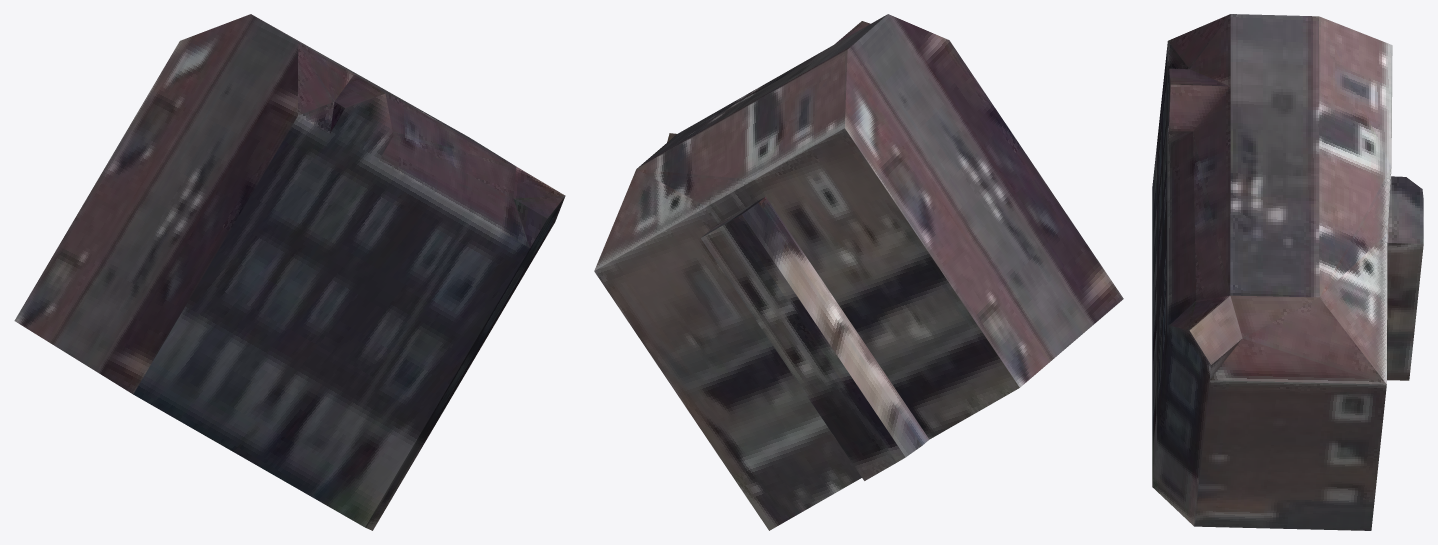
The picture shows the model from 3 angles, left to right: view 1: azimuth 30°, elevation 25°; view 2: azimuth 150°, elevation 25°; view 3: azimuth 270°, elevation 25°; orthographic projection. The views are drawn at different scales.
Visible parts, largest first — view 1: BAG_0599100000688744 (×2); view 2: BAG_0599100000688744 (×2); view 3: BAG_0599100000688744 (×2).
Boxes of the visible parts, left/top/right/bottom form: BAG_0599100000688744 (×2): left=14, top=14, right=565, bottom=530; BAG_0599100000688744 (×2): left=594, top=14, right=1123, bottom=530; BAG_0599100000688744 (×2): left=1152, top=14, right=1423, bottom=530.
Bounding box in the file's own units: 17.48 × 18.1 × 9.06.
3 materials, 2 textured.
